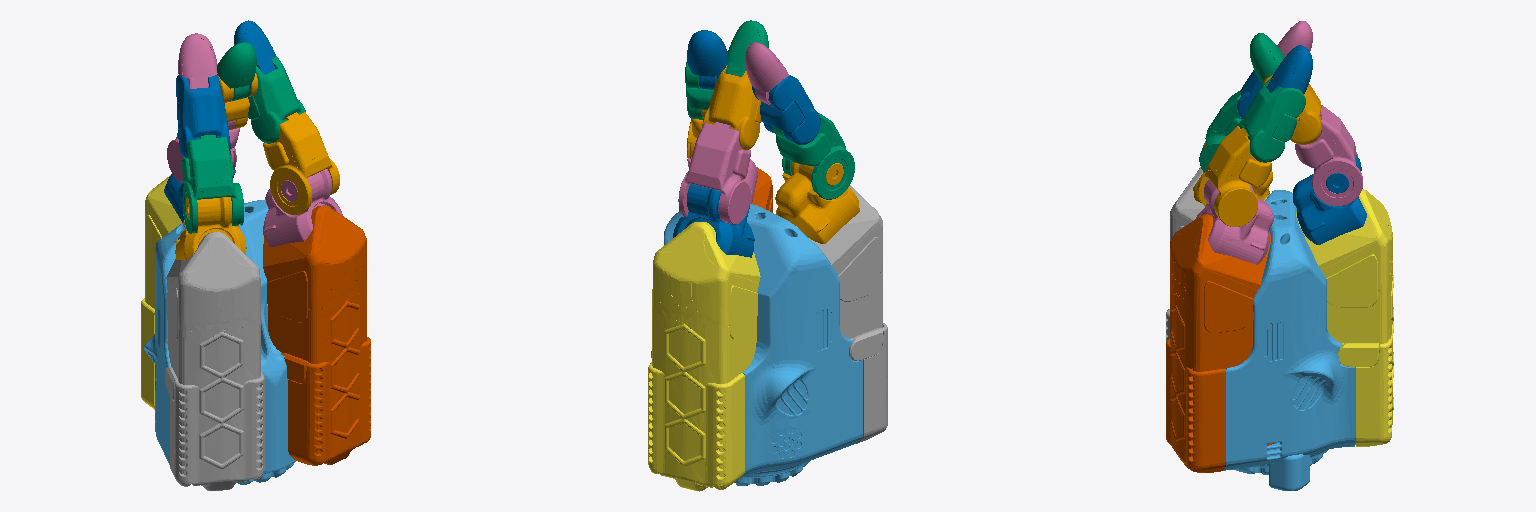
--- Facts derived from the render (not from the file) ---
The picture shows the robot from 3 angles, left to right: view 1: azimuth 30°, elevation 25°; view 2: azimuth 150°, elevation 25°; view 3: azimuth 270°, elevation 25°; orthographic projection.
Model Shadow_DEX_EE with 32 links and 31 joints (12 revolute, 19 fixed), rooted at world, posed all joints at 0.
Links seen in each view (by area): view 1: F2/finger_base, F1/finger_base, hand_base, F1/finger_proximal, F2/finger_proximal, F0/finger_base, F2/finger_middle, F1/finger_middle, F1/finger_knuckle, F2/finger_knuckle, F2/finger_distal, F0/finger_distal (+4 smaller); view 2: F0/finger_base, hand_base, F2/finger_base, F0/finger_proximal, F2/finger_knuckle, F2/finger_proximal, F0/finger_middle, F2/finger_middle, F0/finger_knuckle, F1/finger_distal, F2/finger_distal, F0/finger_distal (+2 smaller); view 3: hand_base, F1/finger_base, F0/finger_base, F1/finger_proximal, F0/finger_proximal, F1/finger_middle, F0/finger_knuckle, F1/finger_knuckle, F1/finger_distal, F2/finger_proximal, F2/finger_base, F0/finger_middle (+3 smaller).
Link boxes in pixels (x1,y1,x2,y2): F2/finger_base: [165, 232, 264, 490]; F1/finger_base: [263, 205, 370, 465]; hand_base: [144, 200, 295, 484]; F1/finger_proximal: [263, 112, 339, 214]; F2/finger_proximal: [182, 135, 243, 233]; F0/finger_base: [141, 175, 181, 409]; F2/finger_middle: [176, 74, 230, 157]; F1/finger_middle: [248, 56, 305, 143]; F1/finger_knuckle: [264, 169, 342, 246]; F2/finger_knuckle: [174, 197, 246, 260]; F2/finger_distal: [178, 33, 217, 89]; F0/finger_distal: [217, 42, 256, 101]; F0/finger_base: [648, 222, 760, 491]; hand_base: [651, 204, 862, 485]; F2/finger_base: [796, 185, 887, 443]; F0/finger_proximal: [678, 122, 750, 224]; F2/finger_knuckle: [775, 161, 859, 243]; F2/finger_proximal: [772, 113, 854, 199]; F0/finger_middle: [702, 65, 761, 149]; F2/finger_middle: [752, 75, 820, 144]; F0/finger_knuckle: [673, 184, 754, 257]; F1/finger_distal: [687, 30, 727, 89]; F2/finger_distal: [745, 42, 789, 106]; F0/finger_distal: [726, 20, 768, 76]; hand_base: [1223, 190, 1355, 490]; F1/finger_base: [1166, 214, 1273, 472]; F0/finger_base: [1296, 189, 1393, 446]; F1/finger_proximal: [1197, 126, 1271, 226]; F0/finger_proximal: [1295, 105, 1362, 205]; F1/finger_middle: [1238, 77, 1305, 162]; F0/finger_knuckle: [1293, 155, 1366, 244]; F1/finger_knuckle: [1195, 179, 1273, 264]; F1/finger_distal: [1266, 45, 1312, 93]; F2/finger_proximal: [1199, 89, 1241, 172]; F2/finger_base: [1166, 167, 1269, 341]; F0/finger_middle: [1263, 75, 1321, 144].
Size in the robot's own frame: 0.1611 by 0.1656 by 0.3405 metres.
70 mesh visuals loaded from 26 distinct referenced files (26 OBJ).

URDF robot description (Shadow_DEX_EE):
<?xml version="1.0" ?>
<robot name="Shadow_DEX_EE">
   <!--generated with mjcf_urdf_simple_converter (https://github.com/Yasu31/mjcf_urdf_simple_converter)-->
   
   <link name="world">
      <inertial>
         <origin xyz="0.0 0.0 0.0" rpy="0.0 0.0 0.0"/>
         <mass value="0.0"/>
         <inertia ixx="0.0" iyy="0.0" izz="0.0" ixy="0" ixz="0" iyz="0"/>
      </inertial>
   </link>
   <link name="hand_base">
      <inertial>
         <origin xyz="0.0012012408425374063 0.006729996281792371 0.08401692122042397" rpy="-0.05683497076935362 0.06733359392505678 1.5758357357552364"/>
         <mass value="0.51"/>
         <inertia ixx="0.0017857945287114141" iyy="0.0014331679068060614" izz="0.0008006585504913038" ixy="0" ixz="0" iyz="0"/>
      </inertial>
      <visual name="r3_config1_base">
         <origin xyz="0.0012012408425374063 0.006729996281792371 0.08401692122042397" rpy="-0.05683497076935362 0.06733359392505656 1.5758357357552366"/>
         <geometry>
            <mesh filename="meshes/converted_r3_config1_base_808080ff.obj" />
         
         </geometry>

      </visual>
      <visual name="r3_config1_base_col">
         <origin xyz="0.0012012408425374063 0.006729996281792371 0.08401692122042397" rpy="-0.05683497076935362 0.06733359392505656 1.5758357357552366"/>
         <geometry>
            <mesh filename="meshes/converted_r3_config1_base_col_ff9999ff.obj"/>
         </geometry>
      </visual>
      <visual name="r3_config1_base_puck">
         <origin xyz="2.1132538598212176e-05 -1.5607816862469347e-05 0.005612088342766364" rpy="3.107884950007894 -1.5686393870957103 -0.5884114118014745"/>
         <geometry>
            <mesh filename="meshes/converted_r3_config1_base_puck_808080ff.obj"/>
         </geometry>
      </visual>
      <visual name="r3_config1_base_puck_col">
         <origin xyz="2.1132538598212176e-05 -1.5607816862469347e-05 0.005612088342766364" rpy="3.107884950007894 -1.5686393870957103 -0.5884114118014745"/>
         <geometry>
            <mesh filename="meshes/converted_r3_config1_base_puck_col_ff9999ff.obj"/>
         </geometry>
      </visual>
   </link>
   <joint type="fixed" name="world2hand_base_fixed">
      <parent link="world"/>
      <child link="hand_base"/>
      <origin xyz="0.0 0.0 0.0" rpy="0.0 0.0 0.0"/>
   </joint>
   <link name="F0/">
      <inertial>
         <origin xyz="0.0 0.05 0.017" rpy="0.0 0.0 0.0"/>
         <mass value="0.0"/>
         <inertia ixx="0.0" iyy="0.0" izz="0.0" ixy="0" ixz="0" iyz="0"/>
      </inertial>
   </link>
   <joint type="fixed" name="world2F0/_fixed">
      <parent link="world"/>
      <child link="F0/"/>
      <origin xyz="0.0 0.05 0.017" rpy="0.0 0.0 0.0"/>
   </joint>
   <link name="F0/finger_base">
      <inertial>
         <origin xyz="8.327226545399306e-12 0.01054598288936383 0.07048018107010738" rpy="0.0 -0.10711439124122646 1.5707963267948968"/>
         <mass value="0.89937782"/>
         <inertia ixx="0.0015673892706571104" iyy="0.0014910361893646423" izz="0.00043993605940265574" ixy="0" ixz="0" iyz="0"/>
      </inertial>
      <visual name="r3_finger_base">
         <origin xyz="8.327226545399306e-12 0.01054598288936383 0.07048018107010738" rpy="0.0 -0.10711439124122646 1.5707963267948966"/>
         <geometry>
            <mesh filename="meshes/converted_r3_finger_base_808080ff.obj"/>
         </geometry>
      </visual>
      <visual name="r3_finger_base_tb">
         <origin xyz="-0.00025000517546225093 0.029824496031573167 0.15326050625056" rpy="-0.11303539257440243 -0.21914547257460848 1.5720384557586078"/>
         <geometry>
            <mesh filename="meshes/converted_r3_finger_base_tb_808080ff.obj"/>
         </geometry>
      </visual>
      <visual name="r3_finger_cover">
         <origin xyz="0.0007136569957928827 0.028223592638347953 0.04220325608402197" rpy="0.03536068327352959 0.08870175476163311 1.5218955282386957"/>
         <geometry>
            <mesh filename="meshes/converted_r3_finger_cover_808080ff.obj"/>
         </geometry>
      </visual>
      <visual name="r3_finger_pulley_block">
         <origin xyz="-0.0009622186268961596 0.006361143943189516 0.1466967096132776" rpy="-1.5687868138431136 -1.1022271132639765 -1.576208495621712"/>
         <geometry>
            <mesh filename="meshes/converted_r3_finger_pulley_block_808080ff.obj"/>
         </geometry>
      </visual>
      <visual name="r3_finger_lid_white">
         <origin xyz="-3.706867975964192e-06 0.03646801477221525 0.1465908800087447" rpy="1.5707963267948966 -0.02201707176498169 1.5707963267948966"/>
         <geometry>
            <mesh filename="meshes/converted_r3_finger_lid_white_808080ff.obj"/>
         </geometry>
      </visual>
      <visual name="r3_finger_lid_logo">
         <origin xyz="-1.4756088946121951e-05 0.03486981911536337 0.1484948163600187" rpy="1.5793979239547067 -0.07957178813569987 1.5707963267948966"/>
         <geometry>
            <mesh filename="meshes/converted_r3_finger_lid_logo_808080ff.obj"/>
         </geometry>
      </visual>
      <visual name="r3_finger_cover_small_left">
         <origin xyz="0.029562986508563247 0.011445826228016404 0.12950803634669852" rpy="2.195541630562622 0.0 0.0"/>
         <geometry>
            <mesh filename="meshes/converted_r3_finger_cover_small_left_808080ff.obj"/>
         </geometry>
      </visual>
      <visual name="r3_finger_cover_small_right">
         <origin xyz="-0.029562986509708983 0.01144582621534511 0.12950803634822772" rpy="2.1955416305372593 0.0 0.0"/>
         <geometry>
            <mesh filename="meshes/converted_r3_finger_cover_small_right_808080ff.obj"/>
         </geometry>
      </visual>
      <visual name="r3_finger_base_col">
         <origin xyz="-1.3046223241388559e-05 0.0004585780015310033 0.08905454252468384" rpy="0.001172742393657572 0.00012091916462431129 -0.0005129728017108533"/>
         <geometry>
            <mesh filename="meshes/converted_r3_finger_base_col_808080ff.obj"/>
         </geometry>
      </visual>
   </link>
   <joint type="fixed" name="F0/2F0/finger_base_fixed">
      <parent link="F0/"/>
      <child link="F0/finger_base"/>
      <origin xyz="0.0 0.0 0.0" rpy="0.0 0.0 0.0"/>
   </joint>
   <link name="F0/finger_knuckle">
      <inertial>
         <origin xyz="-0.00023377087580675408 -0.007837674710718483 -0.015295115474376404" rpy="1.0322489600345182 0.015439441878945415 -0.030933412173580144"/>
         <mass value="0.13077995"/>
         <inertia ixx="6.233881188373811e-05" iyy="5.631648265865956e-05" izz="3.5160911517250855e-05" ixy="0" ixz="0" iyz="0"/>
      </inertial>
      <visual name="r3_finger_knuckle">
         <origin xyz="-0.00023377087580675408 -0.007837674710718483 -0.015295115474376404" rpy="1.0322489600345182 0.015439441878945637 -0.030933412173580144"/>
         <geometry>
            <mesh filename="meshes/converted_r3_finger_knuckle_808080ff.obj"/>
         </geometry>
      </visual>
      <visual name="r3_finger_knuckle_col">
         <origin xyz="-0.00023377087580675408 -0.007837674710718483 -0.015295115474376404" rpy="1.0322489600345182 0.015439441878945637 -0.030933412173580144"/>
         <geometry>
            <mesh filename="meshes/converted_r3_finger_knuckle_col_808080ff.obj"/>
         </geometry>
      </visual>
   </link>
   <link name="F0/J0_jointbody">
      <inertial>
         <origin xyz="0.0 0.0 0.0" rpy="0.0 0.0 0.0"/>
         <mass value="0.001"/>
         <inertia ixx="1e-09" iyy="1e-09" izz="1e-09" ixy="0" ixz="0" iyz="0"/>
      </inertial>
   </link>
   <joint type="revolute" name="F0/J0">
      <parent link="F0/finger_base"/>
      <child link="F0/J0_jointbody"/>
      <origin xyz="0.0 0.015 0.17902" rpy="-1.0472000000000001 0.0 0.0"/>
      <axis xyz="0.0 0.0 -1.0"/>
      <limit lower="-0.8727" upper="0.8727" effort="100" velocity="100"/>
   </joint>
   <joint type="fixed" name="F0/J0_offset">
      <parent link="F0/J0_jointbody"/>
      <child link="F0/finger_knuckle"/>
      <origin xyz="-0.0 -0.0 -0.0" rpy="0.0 0.0 0.0"/>
   </joint>
   <link name="F0/finger_proximal">
      <inertial>
         <origin xyz="-0.0009644587620116158 -0.016217657025227983 0.0026224635162594807" rpy="0.42741351885532486 -1.5281955927617377 1.1674598495934774"/>
         <mass value="0.09614332"/>
         <inertia ixx="4.4348780185862844e-05" iyy="3.9493152754213314e-05" izz="1.6583256458014625e-05" ixy="0" ixz="0" iyz="0"/>
      </inertial>
      <visual name="r3_finger_proximal">
         <origin xyz="-0.0009644587620116158 -0.016217657025227983 0.0026224635162594807" rpy="0.4274135188553242 -1.5281955927617377 1.1674598495934778"/>
         <geometry>
            <mesh filename="meshes/converted_r3_finger_proximal_808080ff.obj"/>
         </geometry>
      </visual>
      <visual name="r3_finger_proximal_lid">
         <origin xyz="0.0009964758204556124 -0.029411778713204648 0.016797547976464114" rpy="2.497510926265769 -1.4287487346267171 -1.3575196482734142"/>
         <geometry>
            <mesh filename="meshes/converted_r3_finger_proximal_lid_808080ff.obj"/>
         </geometry>
      </visual>
      <visual name="r3_finger_proximal_magtac">
         <origin xyz="-1.3808692983045182e-07 -0.02758220823071568 -0.002932796361921121" rpy="1.5707963267948966 0.1889942027358682 1.5707963267948966"/>
         <geometry>
            <mesh filename="meshes/converted_r3_finger_proximal_magtac_808080ff.obj"/>
         </geometry>
      </visual>
      <visual name="r3_finger_proximal_col">
         <origin xyz="-0.0005162379564240678 -0.020597143663197596 0.003623588669234484" rpy="-0.49111008932510347 -1.4921888527050045 2.10201627227121"/>
         <geometry>
            <mesh filename="meshes/converted_r3_finger_proximal_col_808080ff.obj"/>
         </geometry>
      </visual>
   </link>
   <link name="F0/J1_jointbody">
      <inertial>
         <origin xyz="0.0 0.0 0.0" rpy="0.0 0.0 0.0"/>
         <mass value="0.001"/>
         <inertia ixx="1e-09" iyy="1e-09" izz="1e-09" ixy="0" ixz="0" iyz="0"/>
      </inertial>
   </link>
   <joint type="revolute" name="F0/J1">
      <parent link="F0/finger_knuckle"/>
      <child link="F0/J1_jointbody"/>
      <origin xyz="0.0 -0.03 0.0" rpy="0.0 0.0 0.0"/>
      <axis xyz="1.0 0.0 0.0"/>
      <limit lower="-1.3963" upper="0.7854" effort="100" velocity="100"/>
   </joint>
   <joint type="fixed" name="F0/J1_offset">
      <parent link="F0/J1_jointbody"/>
      <child link="F0/finger_proximal"/>
      <origin xyz="-0.0 -0.0 -0.0" rpy="0.0 0.0 0.0"/>
   </joint>
   <link name="F0/finger_middle">
      <inertial>
         <origin xyz="-5.312439490077452e-05 -0.014887540831131058 0.0024159721835044926" rpy="-0.3106861008821471 -1.542885454696393 1.865330518167668"/>
         <mass value="0.05585897"/>
         <inertia ixx="1.8411470670307498e-05" iyy="1.586370741286415e-05" izz="7.914944890151545e-06" ixy="0" ixz="0" iyz="0"/>
      </inertial>
      <visual name="r3_finger_middle">
         <origin xyz="-5.312439490077452e-05 -0.014887540831131058 0.0024159721835044926" rpy="-0.31068610088214343 -1.542885454696393 1.865330518167664"/>
         <geometry>
            <mesh filename="meshes/converted_r3_finger_middle_808080ff.obj"/>
         </geometry>
      </visual>
      <visual name="r3_finger_middle_magtac">
         <origin xyz="-8.268536875349562e-07 -0.017052828022417015 -0.006302157933194955" rpy="1.5744146047816145 -1.2499101541936672 1.5707963267948966"/>
         <geometry>
            <mesh filename="meshes/converted_r3_finger_middle_magtac_808080ff.obj"/>
         </geometry>
      </visual>
      <visual name="r3_finger_middle_col">
         <origin xyz="-3.869287817870368e-05 -0.015361278622972645 0.0005163638117973057" rpy="-0.40438613574675164 -1.560003033264187 1.9569843491253969"/>
         <geometry>
            <mesh filename="meshes/converted_r3_finger_middle_col_808080ff.obj"/>
         </geometry>
      </visual>
   </link>
   <link name="F0/J2_jointbody">
      <inertial>
         <origin xyz="0.0 0.0 0.0" rpy="0.0 0.0 0.0"/>
         <mass value="0.001"/>
         <inertia ixx="1e-09" iyy="1e-09" izz="1e-09" ixy="0" ixz="0" iyz="0"/>
      </inertial>
   </link>
   <joint type="revolute" name="F0/J2">
      <parent link="F0/finger_proximal"/>
      <child link="F0/J2_jointbody"/>
      <origin xyz="0.0 -0.05 0.0" rpy="0.0 0.0 0.0"/>
      <axis xyz="1.0 0.0 0.0"/>
      <limit lower="0.0" upper="1.3963" effort="100" velocity="100"/>
   </joint>
   <joint type="fixed" name="F0/J2_offset">
      <parent link="F0/J2_jointbody"/>
      <child link="F0/finger_middle"/>
      <origin xyz="-0.0 -0.0 -0.0" rpy="0.0 0.0 0.0"/>
   </joint>
   <link name="F0/finger_distal">
      <inertial>
         <origin xyz="-0.0012210484748830597 -0.003505067494228547 0.007269018357083593" rpy="0.39882863373999167 0.031957197161715634 0.13057366506604948"/>
         <mass value="0.02766365"/>
         <inertia ixx="4.205112783682214e-06" iyy="4.075291346818556e-06" izz="1.2620029574927629e-06" ixy="0" ixz="0" iyz="0"/>
      </inertial>
      <visual name="r3_finger_distal">
         <origin xyz="-0.0012210484748830597 -0.003505067494228547 0.007269018357083593" rpy="0.39882863373999167 0.031957197161715634 0.13057366506604948"/>
         <geometry>
            <mesh filename="meshes/converted_r3_finger_distal_808080ff.obj"/>
         </geometry>
      </visual>
      <visual name="r3_finger_distal_sensor">
         <origin xyz="4.159368535496256e-07 -0.0006412162305678167 0.02304441091689664" rpy="0.0 -0.3214055919794552 1.5707963267948966"/>
         <geometry>
            <mesh filename="meshes/converted_r3_finger_distal_sensor_808080ff.obj"/>
         </geometry>
      </visual>
      <visual name="r3_finger_distal_col">
         <origin xyz="-0.0012210484748830597 -0.003505067494228547 0.007269018357083593" rpy="0.39882863373999167 0.031957197161715634 0.13057366506604948"/>
         <geometry>
            <mesh filename="meshes/converted_r3_finger_distal_col_808080ff.obj"/>
         </geometry>
      </visual>
      <visual name="r3_finger_distal_tip_col">
         <origin xyz="4.159368535496256e-07 -0.0006412162305678167 0.02304441091689664" rpy="0.0 -0.3214055919794552 1.5707963267948966"/>
         <geometry>
            <mesh filename="meshes/converted_r3_finger_distal_tip_col_808080ff.obj"/>
         </geometry>
      </visual>
   </link>
   <link name="F0/J3_jointbody">
      <inertial>
         <origin xyz="0.0 0.0 0.0" rpy="0.0 0.0 0.0"/>
         <mass value="0.001"/>
         <inertia ixx="1e-09" iyy="1e-09" izz="1e-09" ixy="0" ixz="0" iyz="0"/>
      </inertial>
   </link>
   <joint type="revolute" name="F0/J3">
      <parent link="F0/finger_middle"/>
      <child link="F0/J3_jointbody"/>
      <origin xyz="0.0 -0.035 0.0" rpy="-1.5707963267948963 0.0 -3.141592653589793"/>
      <axis xyz="-1.0 0.0 0.0"/>
      <limit lower="-0.5236" upper="1.4835" effort="100" velocity="100"/>
   </joint>
   <joint type="fixed" name="F0/J3_offset">
      <parent link="F0/J3_jointbody"/>
      <child link="F0/finger_distal"/>
      <origin xyz="-0.0 -0.0 -0.0" rpy="0.0 0.0 0.0"/>
   </joint>
   <link name="F1/">
      <inertial>
         <origin xyz="0.039 -0.029 0.017" rpy="0.0 0.0 -2.8159"/>
         <mass value="0.0"/>
         <inertia ixx="0.0" iyy="0.0" izz="0.0" ixy="0" ixz="0" iyz="0"/>
      </inertial>
   </link>
   <joint type="fixed" name="world2F1/_fixed">
      <parent link="world"/>
      <child link="F1/"/>
      <origin xyz="0.039 -0.029 0.017" rpy="0.0 0.0 -2.8159"/>
   </joint>
   <link name="F1/finger_base">
      <inertial>
         <origin xyz="8.327226545399306e-12 0.01054598288936383 0.07048018107010738" rpy="0.0 -0.10711439124122646 1.5707963267948968"/>
         <mass value="0.89937782"/>
         <inertia ixx="0.0015673892706571104" iyy="0.0014910361893646423" izz="0.00043993605940265574" ixy="0" ixz="0" iyz="0"/>
      </inertial>
      <visual name="r3_finger_base">
         <origin xyz="8.327226545399306e-12 0.01054598288936383 0.07048018107010738" rpy="0.0 -0.10711439124122646 1.5707963267948966"/>
         <geometry>
            <mesh filename="meshes/converted_r3_finger_base_808080ff.obj"/>
         </geometry>
      </visual>
      <visual name="r3_finger_base_tb">
         <origin xyz="-0.00025000517546225093 0.029824496031573167 0.15326050625056" rpy="-0.11303539257440243 -0.21914547257460848 1.5720384557586078"/>
         <geometry>
            <mesh filename="meshes/converted_r3_finger_base_tb_808080ff.obj"/>
         </geometry>
      </visual>
      <visual name="r3_finger_cover">
         <origin xyz="0.0007136569957928827 0.028223592638347953 0.04220325608402197" rpy="0.03536068327352959 0.08870175476163311 1.5218955282386957"/>
         <geometry>
            <mesh filename="meshes/converted_r3_finger_cover_808080ff.obj"/>
         </geometry>
      </visual>
      <visual name="r3_finger_pulley_block">
         <origin xyz="-0.0009622186268961596 0.006361143943189516 0.1466967096132776" rpy="-1.5687868138431136 -1.1022271132639765 -1.576208495621712"/>
         <geometry>
            <mesh filename="meshes/converted_r3_finger_pulley_block_808080ff.obj"/>
         </geometry>
      </visual>
      <visual name="r3_finger_lid_white">
         <origin xyz="-3.706867975964192e-06 0.03646801477221525 0.1465908800087447" rpy="1.5707963267948966 -0.02201707176498169 1.5707963267948966"/>
         <geometry>
            <mesh filename="meshes/converted_r3_finger_lid_white_808080ff.obj"/>
         </geometry>
      </visual>
      <visual name="r3_finger_lid_logo">
         <origin xyz="-1.4756088946121951e-05 0.03486981911536337 0.1484948163600187" rpy="1.5793979239547067 -0.07957178813569987 1.5707963267948966"/>
         <geometry>
            <mesh filename="meshes/converted_r3_finger_lid_logo_808080ff.obj"/>
         </geometry>
      </visual>
      <visual name="r3_finger_cover_small_left">
         <origin xyz="0.029562986508563247 0.011445826228016404 0.12950803634669852" rpy="2.195541630562622 0.0 0.0"/>
         <geometry>
            <mesh filename="meshes/converted_r3_finger_cover_small_left_808080ff.obj"/>
         </geometry>
      </visual>
      <visual name="r3_finger_cover_small_right">
         <origin xyz="-0.029562986509708983 0.01144582621534511 0.12950803634822772" rpy="2.1955416305372593 0.0 0.0"/>
         <geometry>
            <mesh filename="meshes/converted_r3_finger_cover_small_right_808080ff.obj"/>
         </geometry>
      </visual>
      <visual name="r3_finger_base_col">
         <origin xyz="-1.3046223241388559e-05 0.0004585780015310033 0.08905454252468384" rpy="0.001172742393657572 0.00012091916462431129 -0.0005129728017108533"/>
         <geometry>
            <mesh filename="meshes/converted_r3_finger_base_col_808080ff.obj"/>
         </geometry>
      </visual>
   </link>
   <joint type="fixed" name="F1/2F1/finger_base_fixed">
      <parent link="F1/"/>
      <child link="F1/finger_base"/>
      <origin xyz="0.0 0.0 0.0" rpy="0.0 0.0 0.0"/>
   </joint>
   <link name="F1/finger_knuckle">
      <inertial>
         <origin xyz="-0.00023377087580675408 -0.007837674710718483 -0.015295115474376404" rpy="1.0322489600345182 0.015439441878945415 -0.030933412173580144"/>
         <mass value="0.13077995"/>
         <inertia ixx="6.233881188373811e-05" iyy="5.631648265865956e-05" izz="3.5160911517250855e-05" ixy="0" ixz="0" iyz="0"/>
      </inertial>
      <visual name="r3_finger_knuckle">
         <origin xyz="-0.00023377087580675408 -0.007837674710718483 -0.015295115474376404" rpy="1.0322489600345182 0.015439441878945637 -0.030933412173580144"/>
         <geometry>
            <mesh filename="meshes/converted_r3_finger_knuckle_808080ff.obj"/>
         </geometry>
      </visual>
      <visual name="r3_finger_knuckle_col">
         <origin xyz="-0.00023377087580675408 -0.007837674710718483 -0.015295115474376404" rpy="1.0322489600345182 0.015439441878945637 -0.030933412173580144"/>
         <geometry>
            <mesh filename="meshes/converted_r3_finger_knuckle_col_808080ff.obj"/>
         </geometry>
      </visual>
   </link>
   <link name="F1/J0_jointbody">
      <inertial>
         <origin xyz="0.0 0.0 0.0" rpy="0.0 0.0 0.0"/>
         <mass value="0.001"/>
         <inertia ixx="1e-09" iyy="1e-09" izz="1e-09" ixy="0" ixz="0" iyz="0"/>
      </inertial>
   </link>
   <joint type="revolute" name="F1/J0">
      <parent link="F1/finger_base"/>
      <child link="F1/J0_jointbody"/>
      <origin xyz="0.0 0.015 0.17902" rpy="-1.0472000000000001 0.0 0.0"/>
      <axis xyz="0.0 0.0 -1.0"/>
      <limit lower="-0.8727" upper="0.8727" effort="100" velocity="100"/>
   </joint>
   <joint type="fixed" name="F1/J0_offset">
      <parent link="F1/J0_jointbody"/>
      <child link="F1/finger_knuckle"/>
      <origin xyz="-0.0 -0.0 -0.0" rpy="0.0 0.0 0.0"/>
   </joint>
   <link name="F1/finger_proximal">
      <inertial>
         <origin xyz="-0.0009644587620116158 -0.016217657025227983 0.0026224635162594807" rpy="0.42741351885532486 -1.5281955927617377 1.1674598495934774"/>
         <mass value="0.09614332"/>
         <inertia ixx="4.4348780185862844e-05" iyy="3.9493152754213314e-05" izz="1.6583256458014625e-05" ixy="0" ixz="0" iyz="0"/>
      </inertial>
      <visual name="r3_finger_proximal">
         <origin xyz="-0.0009644587620116158 -0.016217657025227983 0.0026224635162594807" rpy="0.4274135188553242 -1.5281955927617377 1.1674598495934778"/>
         <geometry>
            <mesh filename="meshes/converted_r3_finger_proximal_808080ff.obj"/>
         </geometry>
      </visual>
      <visual name="r3_finger_proximal_lid">
         <origin xyz="0.0009964758204556124 -0.029411778713204648 0.016797547976464114" rpy="2.497510926265769 -1.4287487346267171 -1.3575196482734142"/>
         <geometry>
            <mesh filename="meshes/converted_r3_finger_proximal_lid_808080ff.obj"/>
         </geometry>
      </visual>
      <visual name="r3_finger_proximal_magtac">
         <origin xyz="-1.3808692983045182e-07 -0.02758220823071568 -0.002932796361921121" rpy="1.5707963267948966 0.1889942027358682 1.5707963267948966"/>
         <geometry>
            <mesh filename="meshes/converted_r3_finger_proximal_magtac_808080ff.obj"/>
         </geometry>
      </visual>
      <visual name="r3_finger_proximal_col">
         <origin xyz="-0.0005162379564240678 -0.020597143663197596 0.003623588669234484" rpy="-0.49111008932510347 -1.4921888527050045 2.10201627227121"/>
         <geometry>
            <mesh filename="meshes/converted_r3_finger_proximal_col_808080ff.obj"/>
         </geometry>
      </visual>
   </link>
   <link name="F1/J1_jointbody">
      <inertial>
         <origin xyz="0.0 0.0 0.0" rpy="0.0 0.0 0.0"/>
         <mass value="0.001"/>
         <inertia ixx="1e-09" iyy="1e-09" izz="1e-09" ixy="0" ixz="0" iyz="0"/>
      </inertial>
   </link>
   <joint type="revolute" name="F1/J1">
      <parent link="F1/finger_knuckle"/>
      <child link="F1/J1_jointbody"/>
      <origin xyz="0.0 -0.03 0.0" rpy="0.0 0.0 0.0"/>
      <axis xyz="1.0 0.0 0.0"/>
      <limit lower="-1.3963" upper="0.7854" effort="100" velocity="100"/>
   </joint>
   <joint type="fixed" name="F1/J1_offset">
      <parent link="F1/J1_jointbody"/>
      <child link="F1/finger_proximal"/>
      <origin xyz="-0.0 -0.0 -0.0" rpy="0.0 0.0 0.0"/>
   </joint>
   <link name="F1/finger_middle">
      <inertial>
         <origin xyz="-5.312439490077452e-05 -0.014887540831131058 0.0024159721835044926" rpy="-0.3106861008821471 -1.542885454696393 1.865330518167668"/>
         <mass value="0.05585897"/>
         <inertia ixx="1.8411470670307498e-05" iyy="1.586370741286415e-05" izz="7.914944890151545e-06" ixy="0" ixz="0" iyz="0"/>
      </inertial>
      <visual name="r3_finger_middle">
         <origin xyz="-5.312439490077452e-05 -0.014887540831131058 0.0024159721835044926" rpy="-0.31068610088214343 -1.542885454696393 1.865330518167664"/>
         <geometry>
            <mesh filename="meshes/converted_r3_finger_middle_808080ff.obj"/>
         </geometry>
      </visual>
      <visual name="r3_finger_middle_magtac">
         <origin xyz="-8.268536875349562e-07 -0.017052828022417015 -0.006302157933194955" rpy="1.5744146047816145 -1.2499101541936672 1.5707963267948966"/>
         <geometry>
            <mesh filename="meshes/converted_r3_finger_middle_magtac_808080ff.obj"/>
         </geometry>
      </visual>
      <visual name="r3_finger_middle_col">
         <origin xyz="-3.869287817870368e-05 -0.015361278622972645 0.0005163638117973057" rpy="-0.40438613574675164 -1.560003033264187 1.9569843491253969"/>
         <geometry>
            <mesh filename="meshes/converted_r3_finger_middle_col_808080ff.obj"/>
         </geometry>
      </visual>
   </link>
   <link name="F1/J2_jointbody">
      <inertial>
         <origin xyz="0.0 0.0 0.0" rpy="0.0 0.0 0.0"/>
         <mass value="0.001"/>
         <inertia ixx="1e-09" iyy="1e-09" izz="1e-09" ixy="0" ixz="0" iyz="0"/>
      </inertial>
   </link>
   <joint type="revolute" name="F1/J2">
      <parent link="F1/finger_proximal"/>
      <child link="F1/J2_jointbody"/>
      <origin xyz="0.0 -0.05 0.0" rpy="0.0 0.0 0.0"/>
      <axis xyz="1.0 0.0 0.0"/>
      <limit lower="0.0" upper="1.3963" effort="100" velocity="100"/>
   </joint>
   <joint type="fixed" name="F1/J2_offset">
      <parent link="F1/J2_jointbody"/>
      <child link="F1/finger_middle"/>
      <origin xyz="-0.0 -0.0 -0.0" rpy="0.0 0.0 0.0"/>
   </joint>
   <link name="F1/finger_distal">
      <inertial>
         <origin xyz="-0.0012210484748830597 -0.003505067494228547 0.007269018357083593" rpy="0.39882863373999167 0.031957197161715634 0.13057366506604948"/>
         <mass value="0.02766365"/>
         <inertia ixx="4.205112783682214e-06" iyy="4.075291346818556e-06" izz="1.2620029574927629e-06" ixy="0" ixz="0" iyz="0"/>
      </inertial>
      <visual name="r3_finger_distal">
         <origin xyz="-0.0012210484748830597 -0.003505067494228547 0.007269018357083593" rpy="0.39882863373999167 0.031957197161715634 0.13057366506604948"/>
         <geometry>
            <mesh filename="meshes/converted_r3_finger_distal_808080ff.obj"/>
         </geometry>
      </visual>
      <visual name="r3_finger_distal_sensor">
         <origin xyz="4.159368535496256e-07 -0.0006412162305678167 0.02304441091689664" rpy="0.0 -0.3214055919794552 1.5707963267948966"/>
         <geometry>
            <mesh filename="meshes/converted_r3_finger_distal_sensor_808080ff.obj"/>
         </geometry>
      </visual>
      <visual name="r3_finger_distal_col">
         <origin xyz="-0.0012210484748830597 -0.003505067494228547 0.007269018357083593" rpy="0.39882863373999167 0.031957197161715634 0.13057366506604948"/>
         <geometry>
            <mesh filename="meshes/converted_r3_finger_distal_col_808080ff.obj"/>
         </geometry>
      </visual>
      <visual name="r3_finger_distal_tip_col">
         <origin xyz="4.159368535496256e-07 -0.0006412162305678167 0.02304441091689664" rpy="0.0 -0.3214055919794552 1.5707963267948966"/>
         <geometry>
            <mesh filename="meshes/converted_r3_finger_distal_tip_col_808080ff.obj"/>
         </geometry>
      </visual>
   </link>
   <link name="F1/J3_jointbody">
      <inertial>
         <origin xyz="0.0 0.0 0.0" rpy="0.0 0.0 0.0"/>
         <mass value="0.001"/>
         <inertia ixx="1e-09" iyy="1e-09" izz="1e-09" ixy="0" ixz="0" iyz="0"/>
      </inertial>
   </link>
   <joint type="revolute" name="F1/J3">
      <parent link="F1/finger_middle"/>
      <child link="F1/J3_jointbody"/>
      <origin xyz="0.0 -0.035 0.0" rpy="-1.5707963267948963 0.0 -3.141592653589793"/>
      <axis xyz="-1.0 0.0 0.0"/>
      <limit lower="-0.5236" upper="1.4835" effort="100" velocity="100"/>
   </joint>
   <joint type="fixed" name="F1/J3_offset">
      <parent link="F1/J3_jointbody"/>
      <child link="F1/finger_distal"/>
      <origin xyz="-0.0 -0.0 -0.0" rpy="0.0 0.0 0.0"/>
   </joint>
   <link name="F2/">
      <inertial>
         <origin xyz="-0.039 -0.029 0.017" rpy="0.0 0.0 2.8159"/>
         <mass value="0.0"/>
         <inertia ixx="0.0" iyy="0.0" izz="0.0" ixy="0" ixz="0" iyz="0"/>
      </inertial>
   </link>
   <joint type="fixed" name="world2F2/_fixed">
      <parent link="world"/>
      <child link="F2/"/>
      <origin xyz="-0.039 -0.029 0.017" rpy="0.0 0.0 2.8159"/>
   </joint>
   <link name="F2/finger_base">
      <inertial>
         <origin xyz="8.327226545399306e-12 0.01054598288936383 0.07048018107010738" rpy="0.0 -0.10711439124122646 1.5707963267948968"/>
         <mass value="0.89937782"/>
         <inertia ixx="0.0015673892706571104" iyy="0.0014910361893646423" izz="0.00043993605940265574" ixy="0" ixz="0" iyz="0"/>
      </inertial>
      <visual name="r3_finger_base">
         <origin xyz="8.327226545399306e-12 0.01054598288936383 0.07048018107010738" rpy="0.0 -0.10711439124122646 1.5707963267948966"/>
         <geometry>
            <mesh filename="meshes/converted_r3_finger_base_808080ff.obj"/>
         </geometry>
      </visual>
      <visual name="r3_finger_base_tb">
         <origin xyz="-0.00025000517546225093 0.029824496031573167 0.15326050625056" rpy="-0.11303539257440243 -0.21914547257460848 1.5720384557586078"/>
         <geometry>
            <mesh filename="meshes/converted_r3_finger_base_tb_808080ff.obj"/>
         </geometry>
      </visual>
      <visual name="r3_finger_cover">
         <origin xyz="0.0007136569957928827 0.028223592638347953 0.04220325608402197" rpy="0.03536068327352959 0.08870175476163311 1.5218955282386957"/>
         <geometry>
            <mesh filename="meshes/converted_r3_finger_cover_808080ff.obj"/>
         </geometry>
      </visual>
      <visual name="r3_finger_pulley_block">
         <origin xyz="-0.0009622186268961596 0.006361143943189516 0.1466967096132776" rpy="-1.5687868138431136 -1.1022271132639765 -1.576208495621712"/>
         <geometry>
            <mesh filename="meshes/converted_r3_finger_pulley_block_808080ff.obj"/>
         </geometry>
      </visual>
      <visual name="r3_finger_lid_white">
         <origin xyz="-3.706867975964192e-06 0.03646801477221525 0.1465908800087447" rpy="1.5707963267948966 -0.02201707176498169 1.5707963267948966"/>
         <geometry>
            <mesh filename="meshes/converted_r3_finger_lid_white_808080ff.obj"/>
         </geometry>
      </visual>
      <visual name="r3_finger_lid_logo">
         <origin xyz="-1.4756088946121951e-05 0.03486981911536337 0.1484948163600187" rpy="1.5793979239547067 -0.07957178813569987 1.5707963267948966"/>
         <geometry>
            <mesh filename="meshes/converted_r3_finger_lid_logo_808080ff.obj"/>
         </geometry>
      </visual>
      <visual name="r3_finger_cover_small_left">
         <origin xyz="0.029562986508563247 0.011445826228016404 0.12950803634669852" rpy="2.195541630562622 0.0 0.0"/>
         <geometry>
            <mesh filename="meshes/converted_r3_finger_cover_small_left_808080ff.obj"/>
         </geometry>
      </visual>
      <visual name="r3_finger_cover_small_right">
         <origin xyz="-0.029562986509708983 0.01144582621534511 0.12950803634822772" rpy="2.1955416305372593 0.0 0.0"/>
         <geometry>
            <mesh filename="meshes/converted_r3_finger_cover_small_right_808080ff.obj"/>
         </geometry>
      </visual>
      <visual name="r3_finger_base_col">
         <origin xyz="-1.3046223241388559e-05 0.0004585780015310033 0.08905454252468384" rpy="0.001172742393657572 0.00012091916462431129 -0.0005129728017108533"/>
         <geometry>
            <mesh filename="meshes/converted_r3_finger_base_col_808080ff.obj"/>
         </geometry>
      </visual>
   </link>
   <joint type="fixed" name="F2/2F2/finger_base_fixed">
      <parent link="F2/"/>
      <child link="F2/finger_base"/>
      <origin xyz="0.0 0.0 0.0" rpy="0.0 0.0 0.0"/>
   </joint>
   <link name="F2/finger_knuckle">
      <inertial>
         <origin xyz="-0.00023377087580675408 -0.007837674710718483 -0.015295115474376404" rpy="1.0322489600345182 0.015439441878945415 -0.030933412173580144"/>
         <mass value="0.13077995"/>
         <inertia ixx="6.233881188373811e-05" iyy="5.631648265865956e-05" izz="3.5160911517250855e-05" ixy="0" ixz="0" iyz="0"/>
      </inertial>
      <visual name="r3_finger_knuckle">
         <origin xyz="-0.00023377087580675408 -0.007837674710718483 -0.015295115474376404" rpy="1.0322489600345182 0.015439441878945637 -0.030933412173580144"/>
         <geometry>
            <mesh filename="meshes/converted_r3_finger_knuckle_808080ff.obj"/>
         </geometry>
      </visual>
      <visual name="r3_finger_knuckle_col">
         <origin xyz="-0.00023377087580675408 -0.007837674710718483 -0.015295115474376404" rpy="1.0322489600345182 0.015439441878945637 -0.030933412173580144"/>
         <geometry>
            <mesh filename="meshes/converted_r3_finger_knuckle_col_808080ff.obj"/>
         </geometry>
      </visual>
   </link>
   <link name="F2/J0_jointbody">
      <inertial>
         <origin xyz="0.0 0.0 0.0" rpy="0.0 0.0 0.0"/>
         <mass value="0.001"/>
         <inertia ixx="1e-09" iyy="1e-09" izz="1e-09" ixy="0" ixz="0" iyz="0"/>
      </inertial>
   </link>
   <joint type="revolute" name="F2/J0">
      <parent link="F2/finger_base"/>
      <child link="F2/J0_jointbody"/>
      <origin xyz="0.0 0.015 0.17902" rpy="-1.0472000000000001 0.0 0.0"/>
      <axis xyz="0.0 0.0 -1.0"/>
      <limit lower="-0.8727" upper="0.8727" effort="100" velocity="100"/>
   </joint>
   <joint type="fixed" name="F2/J0_offset">
      <parent link="F2/J0_jointbody"/>
      <child link="F2/finger_knuckle"/>
      <origin xyz="-0.0 -0.0 -0.0" rpy="0.0 0.0 0.0"/>
   </joint>
   <link name="F2/finger_proximal">
      <inertial>
         <origin xyz="-0.0009644587620116158 -0.016217657025227983 0.0026224635162594807" rpy="0.42741351885532486 -1.5281955927617377 1.1674598495934774"/>
         <mass value="0.09614332"/>
         <inertia ixx="4.4348780185862844e-05" iyy="3.9493152754213314e-05" izz="1.6583256458014625e-05" ixy="0" ixz="0" iyz="0"/>
      </inertial>
      <visual name="r3_finger_proximal">
         <origin xyz="-0.0009644587620116158 -0.016217657025227983 0.0026224635162594807" rpy="0.4274135188553242 -1.5281955927617377 1.1674598495934778"/>
         <geometry>
            <mesh filename="meshes/converted_r3_finger_proximal_808080ff.obj"/>
         </geometry>
      </visual>
      <visual name="r3_finger_proximal_lid">
         <origin xyz="0.0009964758204556124 -0.029411778713204648 0.016797547976464114" rpy="2.497510926265769 -1.4287487346267171 -1.3575196482734142"/>
         <geometry>
            <mesh filename="meshes/converted_r3_finger_proximal_lid_808080ff.obj"/>
         </geometry>
      </visual>
      <visual name="r3_finger_proximal_magtac">
         <origin xyz="-1.3808692983045182e-07 -0.02758220823071568 -0.002932796361921121" rpy="1.5707963267948966 0.1889942027358682 1.5707963267948966"/>
         <geometry>
            <mesh filename="meshes/converted_r3_finger_proximal_magtac_808080ff.obj"/>
         </geometry>
      </visual>
      <visual name="r3_finger_proximal_col">
         <origin xyz="-0.0005162379564240678 -0.020597143663197596 0.003623588669234484" rpy="-0.49111008932510347 -1.4921888527050045 2.10201627227121"/>
         <geometry>
            <mesh filename="meshes/converted_r3_finger_proximal_col_808080ff.obj"/>
         </geometry>
      </visual>
   </link>
   <link name="F2/J1_jointbody">
      <inertial>
         <origin xyz="0.0 0.0 0.0" rpy="0.0 0.0 0.0"/>
         <mass value="0.001"/>
         <inertia ixx="1e-09" iyy="1e-09" izz="1e-09" ixy="0" ixz="0" iyz="0"/>
      </inertial>
   </link>
   <joint type="revolute" name="F2/J1">
      <parent link="F2/finger_knuckle"/>
      <child link="F2/J1_jointbody"/>
      <origin xyz="0.0 -0.03 0.0" rpy="0.0 0.0 0.0"/>
      <axis xyz="1.0 0.0 0.0"/>
      <limit lower="-1.3963" upper="0.7854" effort="100" velocity="100"/>
   </joint>
   <joint type="fixed" name="F2/J1_offset">
      <parent link="F2/J1_jointbody"/>
      <child link="F2/finger_proximal"/>
      <origin xyz="-0.0 -0.0 -0.0" rpy="0.0 0.0 0.0"/>
   </joint>
   <link name="F2/finger_middle">
      <inertial>
         <origin xyz="-5.312439490077452e-05 -0.014887540831131058 0.0024159721835044926" rpy="-0.3106861008821471 -1.542885454696393 1.865330518167668"/>
         <mass value="0.05585897"/>
         <inertia ixx="1.8411470670307498e-05" iyy="1.586370741286415e-05" izz="7.914944890151545e-06" ixy="0" ixz="0" iyz="0"/>
      </inertial>
      <visual name="r3_finger_middle">
         <origin xyz="-5.312439490077452e-05 -0.014887540831131058 0.0024159721835044926" rpy="-0.31068610088214343 -1.542885454696393 1.865330518167664"/>
         <geometry>
            <mesh filename="meshes/converted_r3_finger_middle_808080ff.obj"/>
         </geometry>
      </visual>
      <visual name="r3_finger_middle_magtac">
         <origin xyz="-8.268536875349562e-07 -0.017052828022417015 -0.006302157933194955" rpy="1.5744146047816145 -1.2499101541936672 1.5707963267948966"/>
         <geometry>
            <mesh filename="meshes/converted_r3_finger_middle_magtac_808080ff.obj"/>
         </geometry>
      </visual>
      <visual name="r3_finger_middle_col">
         <origin xyz="-3.869287817870368e-05 -0.015361278622972645 0.0005163638117973057" rpy="-0.40438613574675164 -1.560003033264187 1.9569843491253969"/>
         <geometry>
            <mesh filename="meshes/converted_r3_finger_middle_col_808080ff.obj"/>
         </geometry>
      </visual>
   </link>
   <link name="F2/J2_jointbody">
      <inertial>
         <origin xyz="0.0 0.0 0.0" rpy="0.0 0.0 0.0"/>
         <mass value="0.001"/>
         <inertia ixx="1e-09" iyy="1e-09" izz="1e-09" ixy="0" ixz="0" iyz="0"/>
      </inertial>
   </link>
   <joint type="revolute" name="F2/J2">
      <parent link="F2/finger_proximal"/>
      <child link="F2/J2_jointbody"/>
      <origin xyz="0.0 -0.05 0.0" rpy="0.0 0.0 0.0"/>
      <axis xyz="1.0 0.0 0.0"/>
      <limit lower="0.0" upper="1.3963" effort="100" velocity="100"/>
   </joint>
   <joint type="fixed" name="F2/J2_offset">
      <parent link="F2/J2_jointbody"/>
      <child link="F2/finger_middle"/>
      <origin xyz="-0.0 -0.0 -0.0" rpy="0.0 0.0 0.0"/>
   </joint>
   <link name="F2/finger_distal">
      <inertial>
         <origin xyz="-0.0012210484748830597 -0.003505067494228547 0.007269018357083593" rpy="0.39882863373999167 0.031957197161715634 0.13057366506604948"/>
         <mass value="0.02766365"/>
         <inertia ixx="4.205112783682214e-06" iyy="4.075291346818556e-06" izz="1.2620029574927629e-06" ixy="0" ixz="0" iyz="0"/>
      </inertial>
      <visual name="r3_finger_distal">
         <origin xyz="-0.0012210484748830597 -0.003505067494228547 0.007269018357083593" rpy="0.39882863373999167 0.031957197161715634 0.13057366506604948"/>
         <geometry>
            <mesh filename="meshes/converted_r3_finger_distal_808080ff.obj"/>
         </geometry>
      </visual>
      <visual name="r3_finger_distal_sensor">
         <origin xyz="4.159368535496256e-07 -0.0006412162305678167 0.02304441091689664" rpy="0.0 -0.3214055919794552 1.5707963267948966"/>
         <geometry>
            <mesh filename="meshes/converted_r3_finger_distal_sensor_808080ff.obj"/>
         </geometry>
      </visual>
      <visual name="r3_finger_distal_col">
         <origin xyz="-0.0012210484748830597 -0.003505067494228547 0.007269018357083593" rpy="0.39882863373999167 0.031957197161715634 0.13057366506604948"/>
         <geometry>
            <mesh filename="meshes/converted_r3_finger_distal_col_808080ff.obj"/>
         </geometry>
      </visual>
      <visual name="r3_finger_distal_tip_col">
         <origin xyz="4.159368535496256e-07 -0.0006412162305678167 0.02304441091689664" rpy="0.0 -0.3214055919794552 1.5707963267948966"/>
         <geometry>
            <mesh filename="meshes/converted_r3_finger_distal_tip_col_808080ff.obj"/>
         </geometry>
      </visual>
   </link>
   <link name="F2/J3_jointbody">
      <inertial>
         <origin xyz="0.0 0.0 0.0" rpy="0.0 0.0 0.0"/>
         <mass value="0.001"/>
         <inertia ixx="1e-09" iyy="1e-09" izz="1e-09" ixy="0" ixz="0" iyz="0"/>
      </inertial>
   </link>
   <joint type="revolute" name="F2/J3">
      <parent link="F2/finger_middle"/>
      <child link="F2/J3_jointbody"/>
      <origin xyz="0.0 -0.035 0.0" rpy="-1.5707963267948963 0.0 -3.141592653589793"/>
      <axis xyz="-1.0 0.0 0.0"/>
      <limit lower="-0.5236" upper="1.4835" effort="100" velocity="100"/>
   </joint>
   <joint type="fixed" name="F2/J3_offset">
      <parent link="F2/J3_jointbody"/>
      <child link="F2/finger_distal"/>
      <origin xyz="-0.0 -0.0 -0.0" rpy="0.0 0.0 0.0"/>
   </joint>
</robot>
